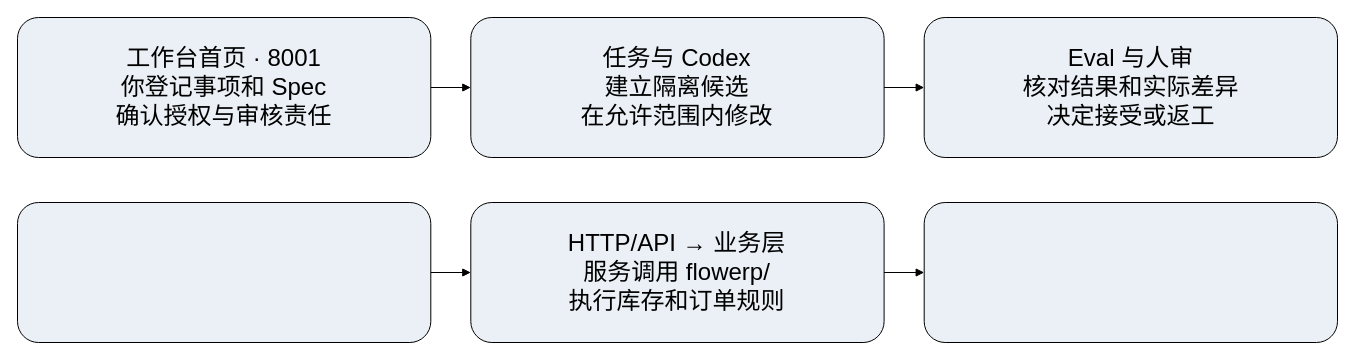
Some shapes in this 1355 by 360 pixel diagram are drawn without their labels. Each missing label, with the centre of its shape:
"ERP 数据 持久化业务事实 与工作台记录分离" goes at point (1130, 272).
"FlowERP 页面 · 8000 业务人员办理进销存 查看业务结果" goes at point (223, 272).
